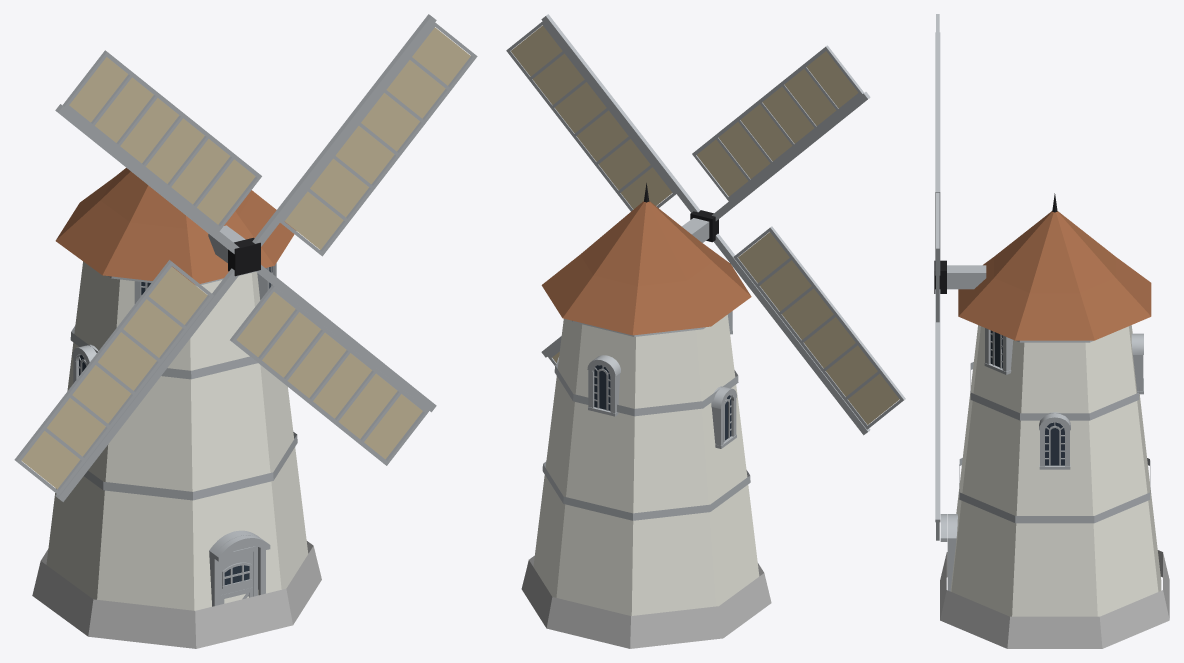
The model's file is windmill.gltf.
3 views of the same model, side by side, from view 1: azimuth 30°, elevation 25°; view 2: azimuth 150°, elevation 25°; view 3: azimuth 270°, elevation 25° (orthographic). The views are drawn at different scales.
Visible parts, largest first — view 1: Tower.002, Cap.013, Foot.001, Canvas.027, Canvas.049, Canvas.060, Canvas.038, Stock.017, Stock.039, Stock.050, Stock.028, Band.003 (+12 smaller); view 2: Tower.002, Cap.013, Foot.001, Canvas.049, Canvas.060, Canvas.027, Stock.017, Window_Thin_Round1.011, Stock.039, Band.003, Stock.050, Window_Thin_Round1.008 (+7 smaller); view 3: Tower.002, Cap.013, Foot.001, Window_Thin_Round1.007, Band.003, Stock.028, Band.004, Window_Thin_Round1.009, Shaft.015, DoorFrame_Round_WoodDark.005, SailRail.052, Window_Thin_Round1.011 (+1 smaller).
Boxes of the visible parts, x1,y1,x2,y2 form: Tower.002: (46,261,308,610); Cap.013: (55,168,295,284); Foot.001: (32,541,321,648); Canvas.027: (284,27,470,249); Canvas.049: (21,267,207,489); Canvas.060: (69,57,255,224); Canvas.038: (236,292,422,459); Stock.017: (252,14,436,246); Stock.039: (55,268,238,501); Stock.050: (55,104,239,253); Stock.028: (256,265,436,412); Band.003: (84,432,297,500); Tower.002: (533,315,759,615); Cap.013: (541,201,751,335); Foot.001: (521,556,771,648); Canvas.049: (738,232,899,424); Canvas.060: (697,51,858,196); Canvas.027: (511,25,672,209); Stock.017: (541,14,700,212); Window_Thin_Round1.011: (587,355,620,416); Stock.039: (713,233,870,435); Band.003: (542,461,750,520); Stock.050: (712,92,870,220); Window_Thin_Round1.008: (711,386,736,448); Tower.002: (950,325,1161,616); Cap.013: (958,211,1151,340); Foot.001: (940,550,1169,648); Window_Thin_Round1.007: (1039,412,1070,469); Band.003: (959,458,1150,523); Stock.028: (935,289,940,522); Band.004: (970,362,1139,420); Window_Thin_Round1.009: (984,328,1013,374); Shaft.015: (947,265,986,289); DoorFrame_Round_WoodDark.005: (940,514,957,591); SailRail.052: (936,16,939,184); Window_Thin_Round1.011: (1131,333,1143,394).
Bounding box in the file's own units: 12.57 × 16.19 × 6.54.
